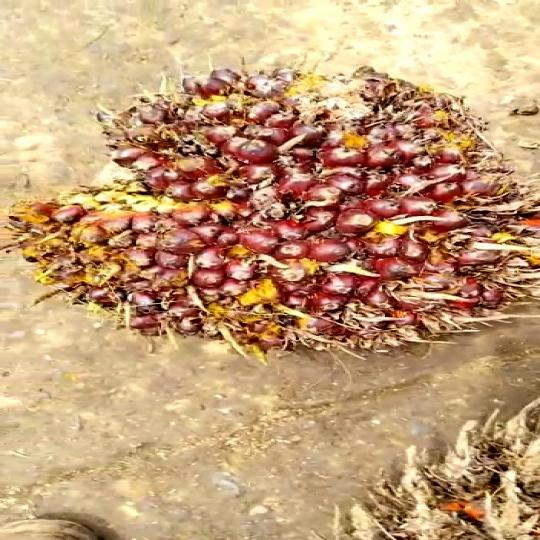masak: (8, 66, 540, 364)
